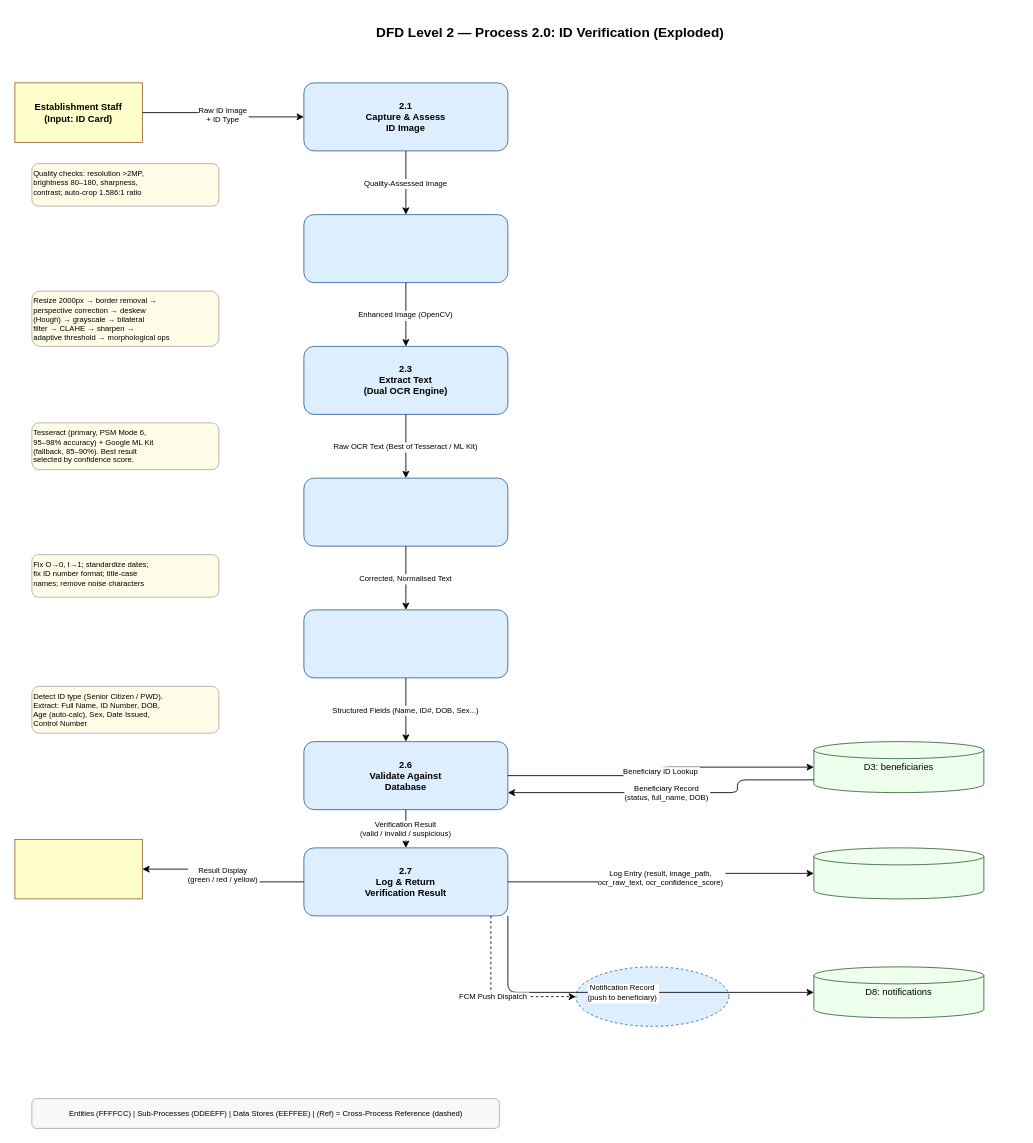
This 1033x1143 diagram has some shape labels left out. The shapes that lost their labels are listed below. From the top down, each one's centre as x and y in pixels, then its label:
the point at 405,248: 2.2 Preprocess Image (10-Step OpenCV Pipeline)
the point at 405,511: 2.4 Post-Process & Correct OCR Text
the point at 405,643: 2.5 Parse & Structure Extracted Fields
the point at 78,869: Establishment Staff (Output: Result)
the point at 898,873: D5: verification_logs
the point at 652,996: (Ref) 7.0 Notification Dispatch
